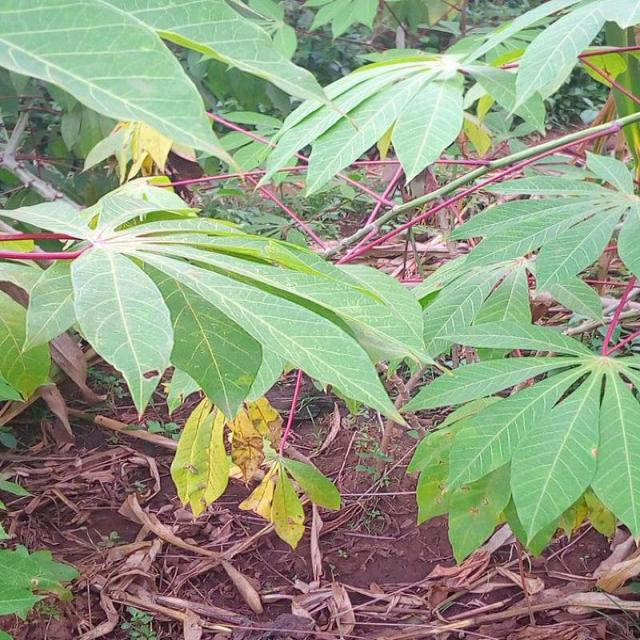cassava leaf: (1, 176, 431, 431), (0, 0, 238, 169)
